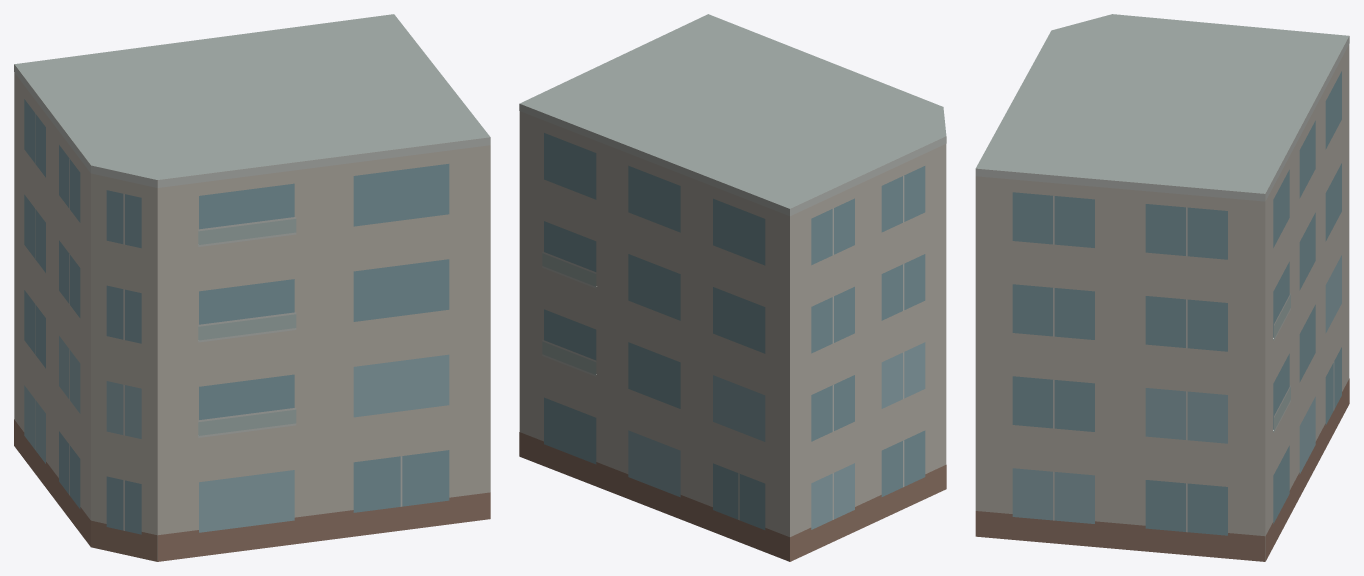
File: survey-upis-32527676.glb
The picture shows the model from 3 angles, left to right: view 1: azimuth 30°, elevation 25°; view 2: azimuth 150°, elevation 25°; view 3: azimuth 270°, elevation 25°; orthographic projection. The views are drawn at different scales.
Visible parts, largest first — view 1: survey-upis-32527676.tmp; view 2: survey-upis-32527676.tmp; view 3: survey-upis-32527676.tmp.
Boxes of the visible parts, x1,y1,x2,y2 form: survey-upis-32527676.tmp: [14, 14, 490, 561]; survey-upis-32527676.tmp: [519, 14, 946, 561]; survey-upis-32527676.tmp: [975, 14, 1349, 561].
Size of the model in its own units: 12.28 by 11.7 by 10.79.
